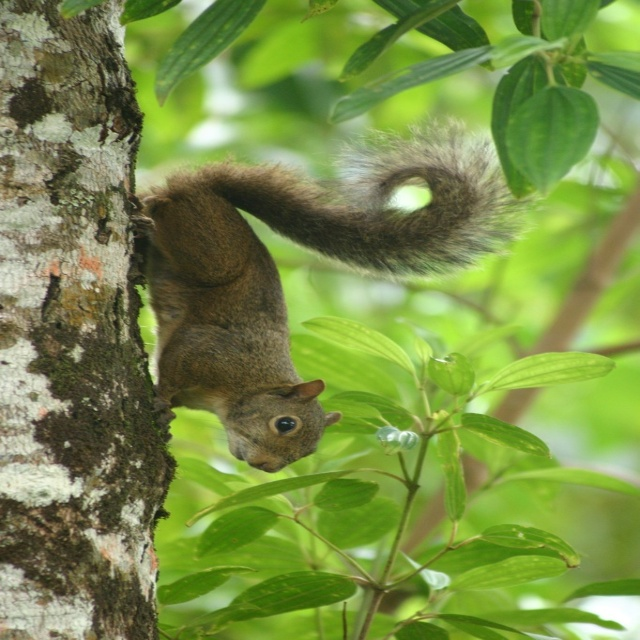Squirrel: (131, 113, 550, 473)
